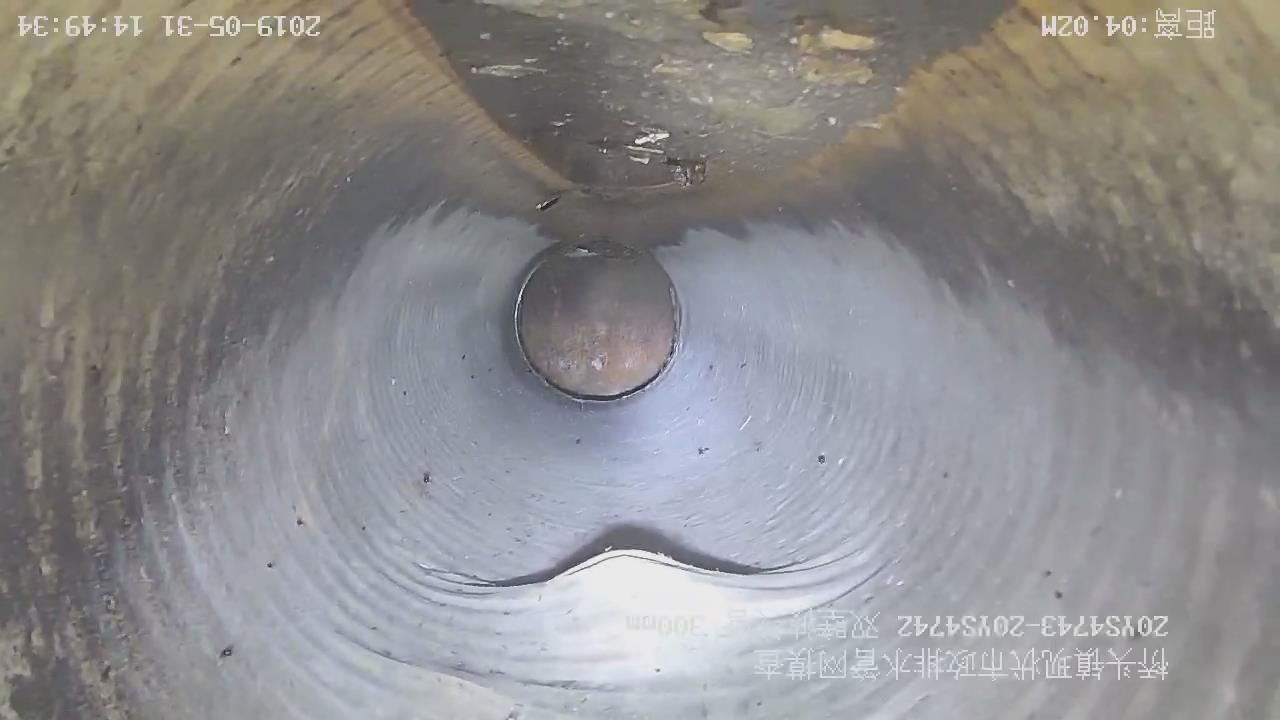BX: (362, 530, 895, 652)
CJ: (415, 1, 1002, 188)
